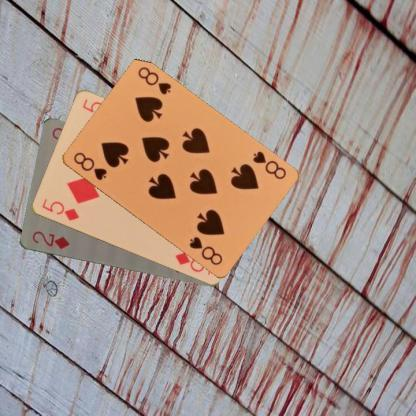2d: (30, 229, 70, 251)
5d: (39, 196, 80, 222)
8s: (71, 149, 108, 182), (250, 148, 287, 181)
